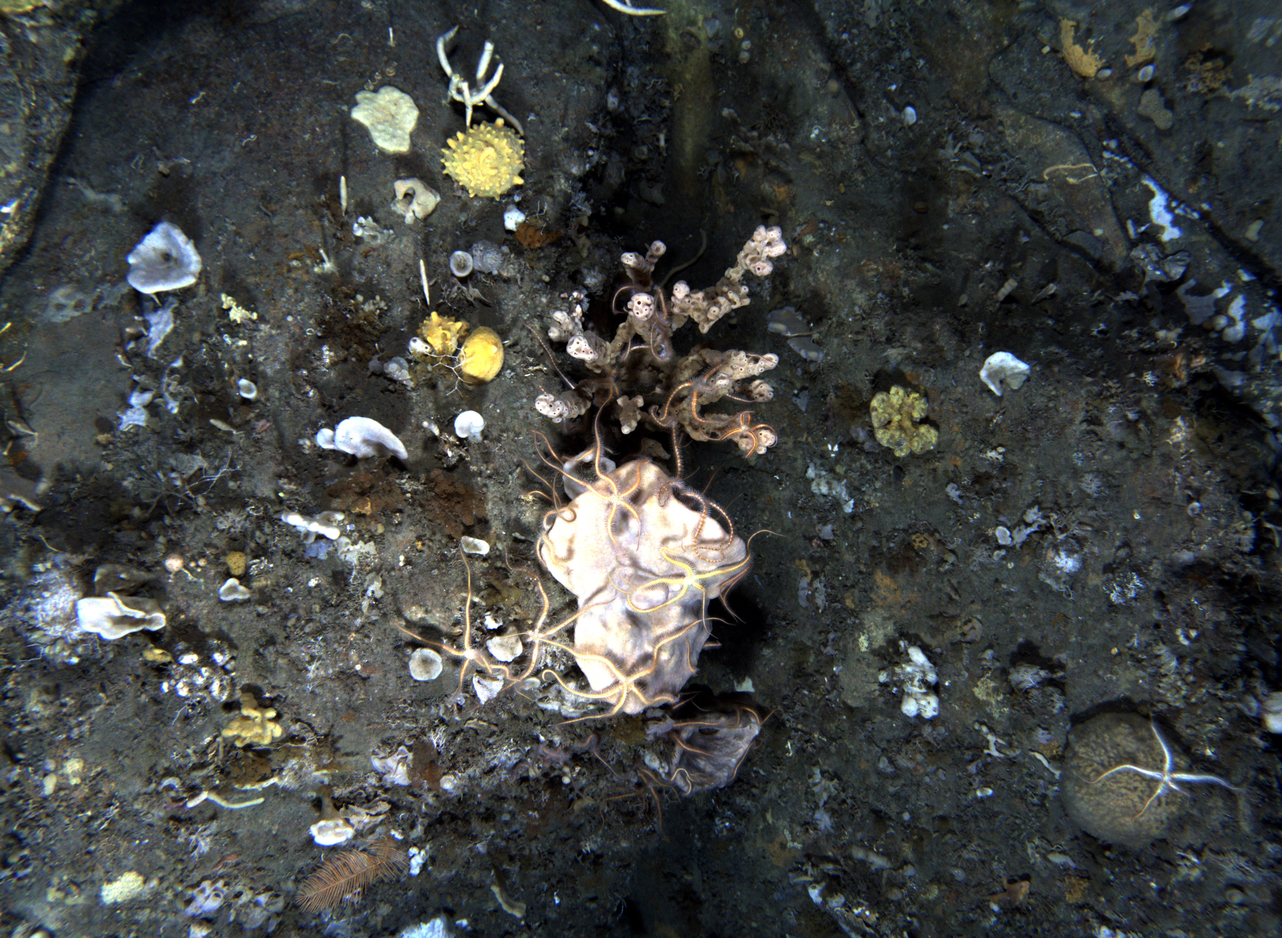Brachionichthyidae: (976, 873, 1038, 909)
